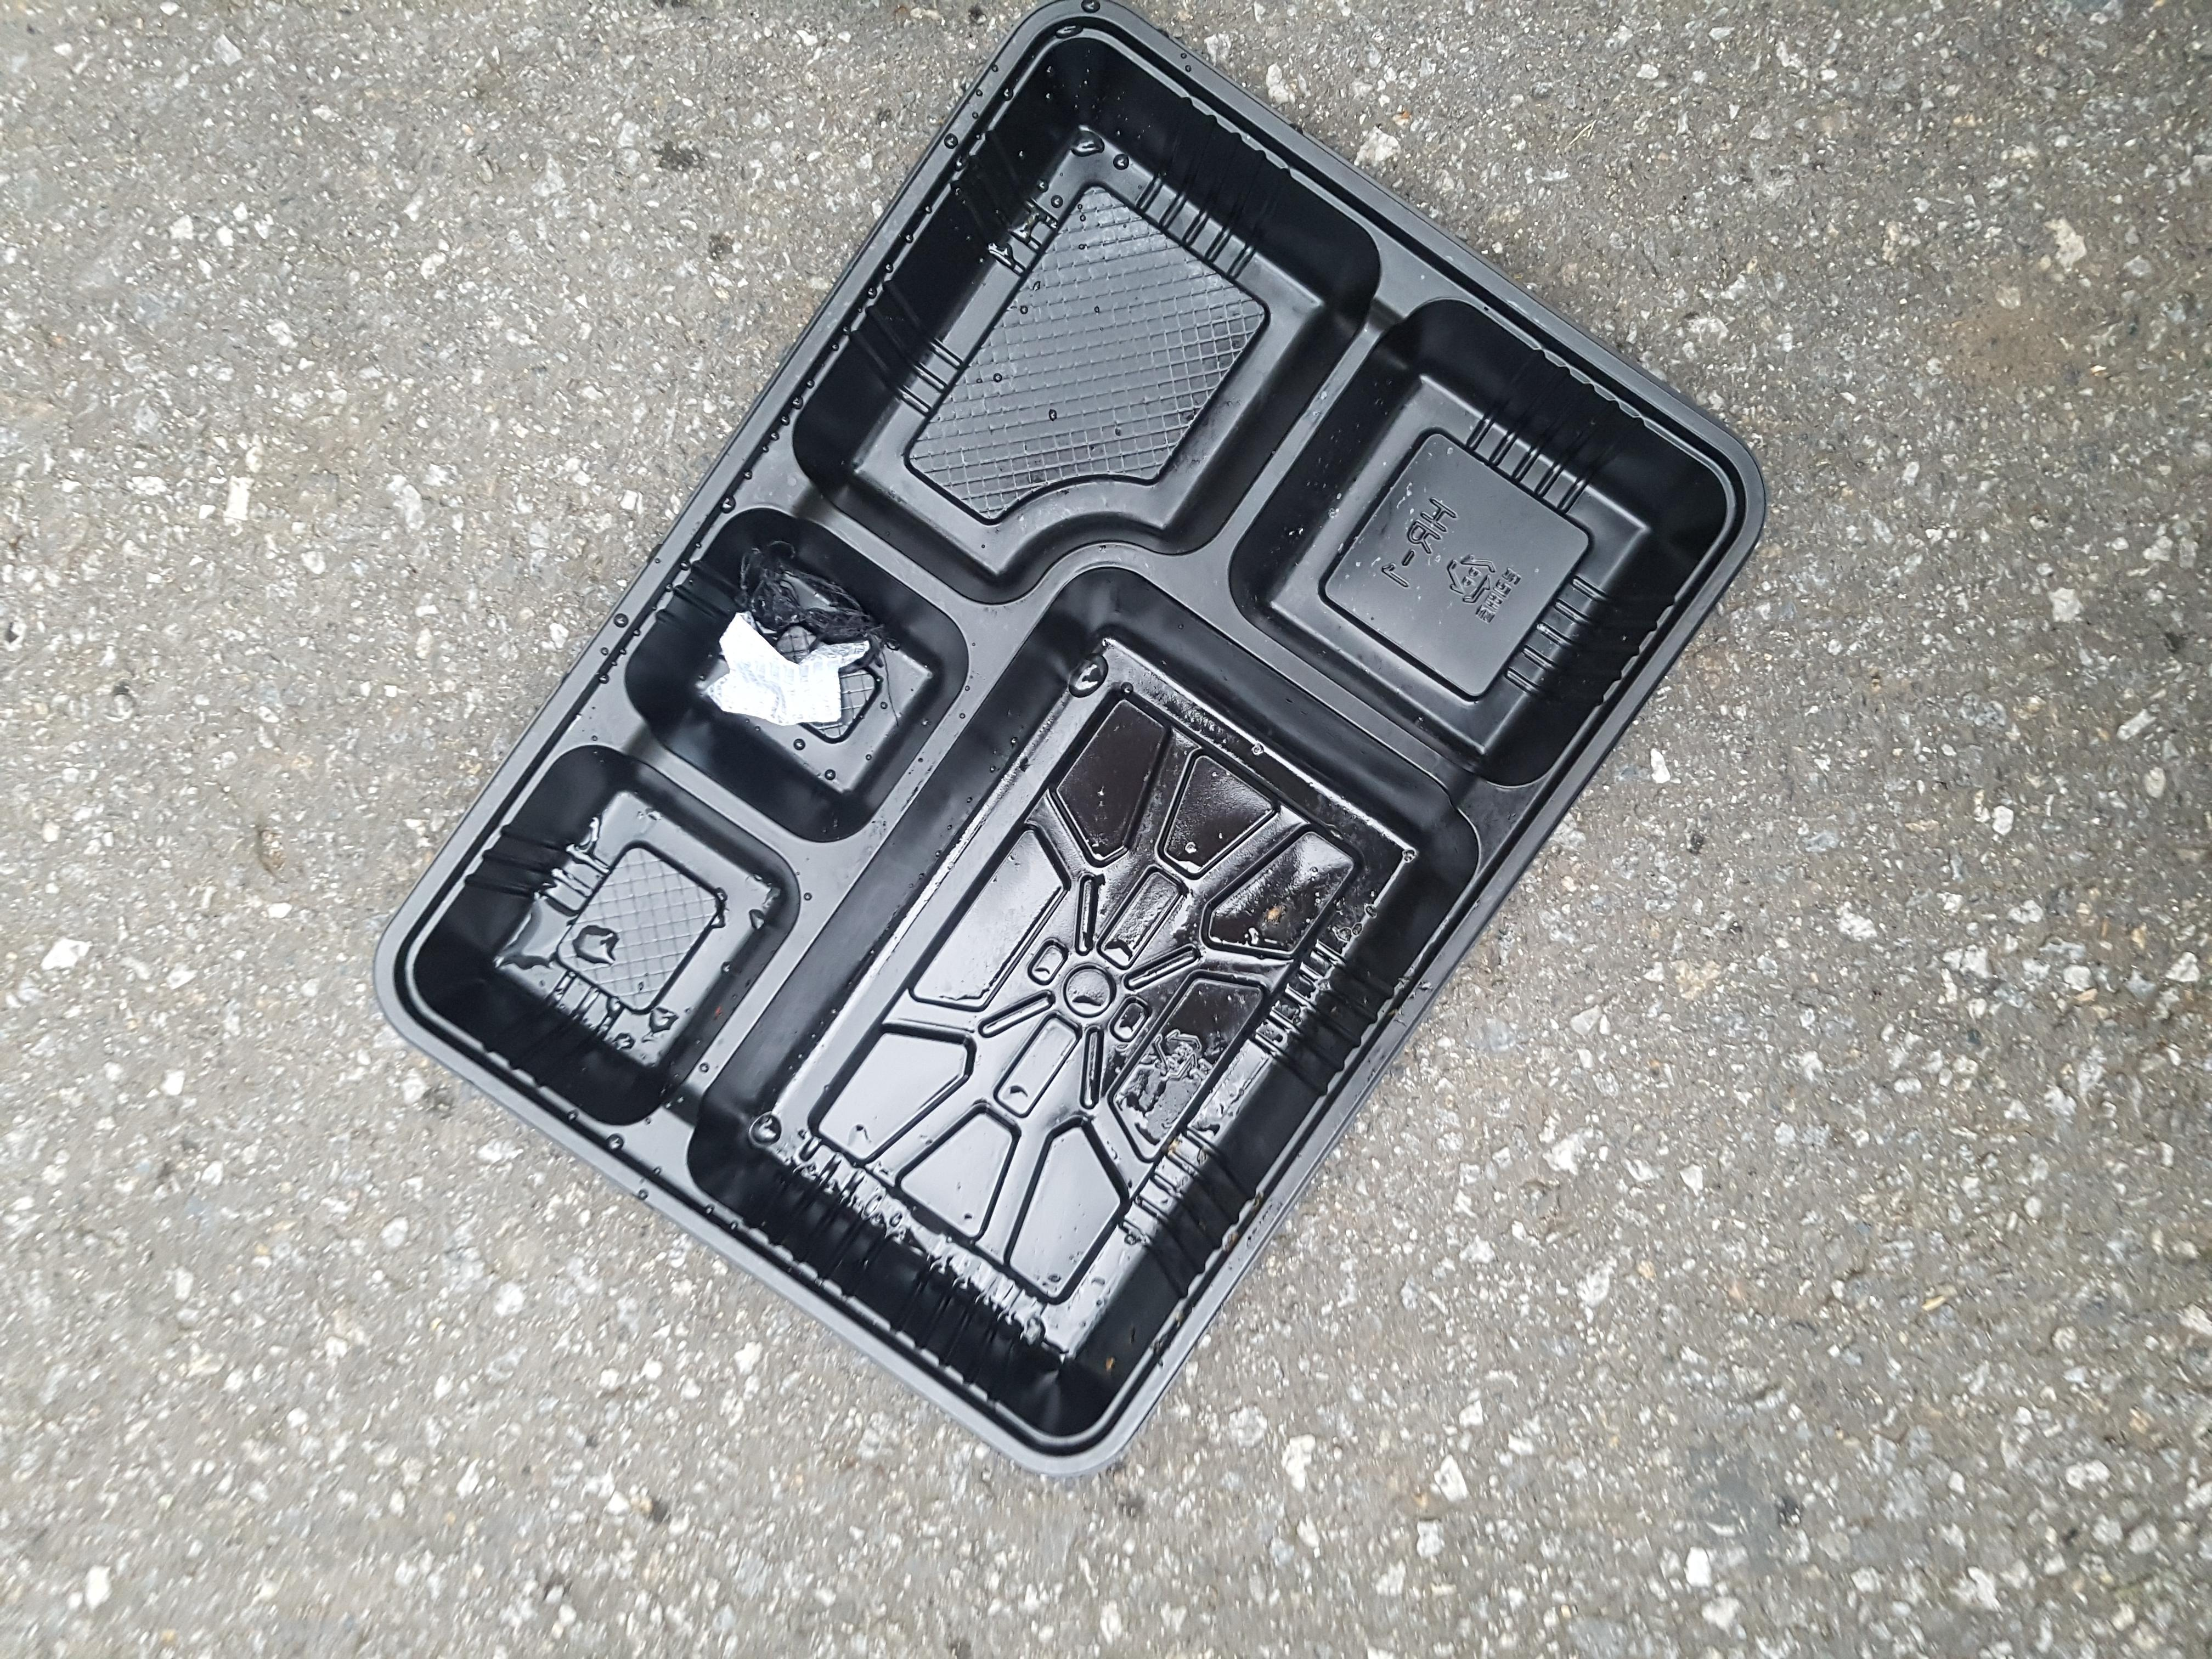bottle: (200, 247, 2212, 1293)
